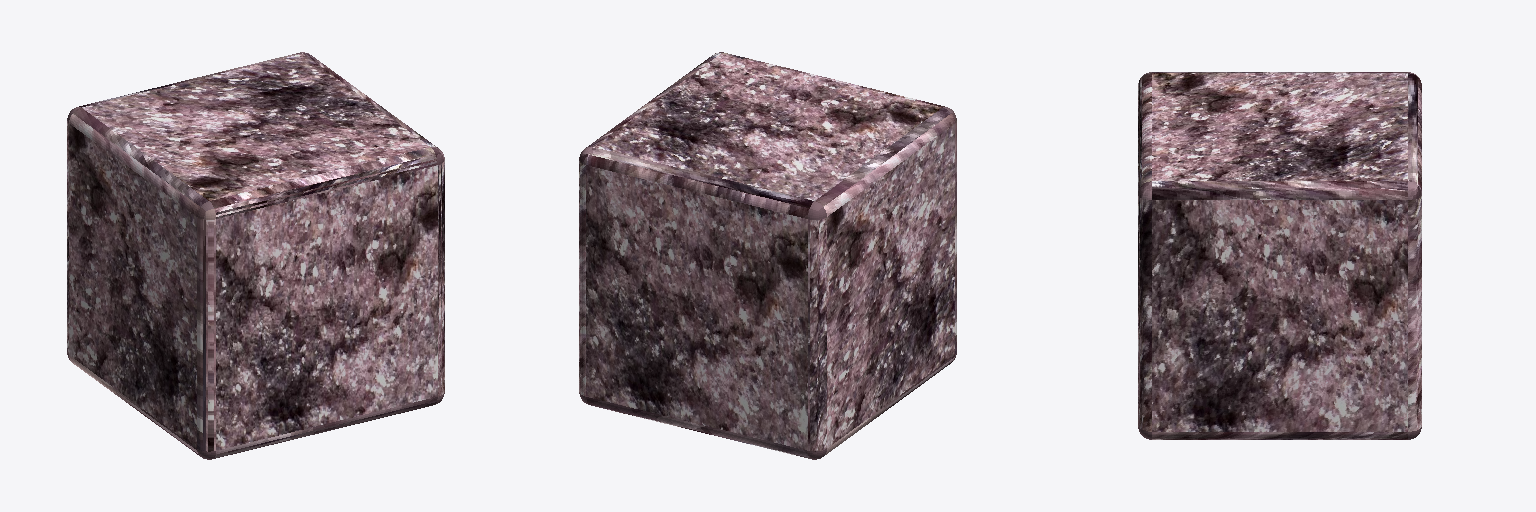
The picture shows the model from 3 angles: view 1: azimuth 30°, elevation 25°; view 2: azimuth 150°, elevation 25°; view 3: azimuth 270°, elevation 25°; orthographic projection.
Visible parts, largest first — view 1: Cube; view 2: Cube; view 3: Cube.
Part boxes in pixels (x1,y1,x2,y2): Cube: (67,52,444,459); Cube: (579,52,956,459); Cube: (1138,72,1421,439).
Size of the model in its own units: 2 by 2 by 2.
Materials: 1 (1 with a texture image).